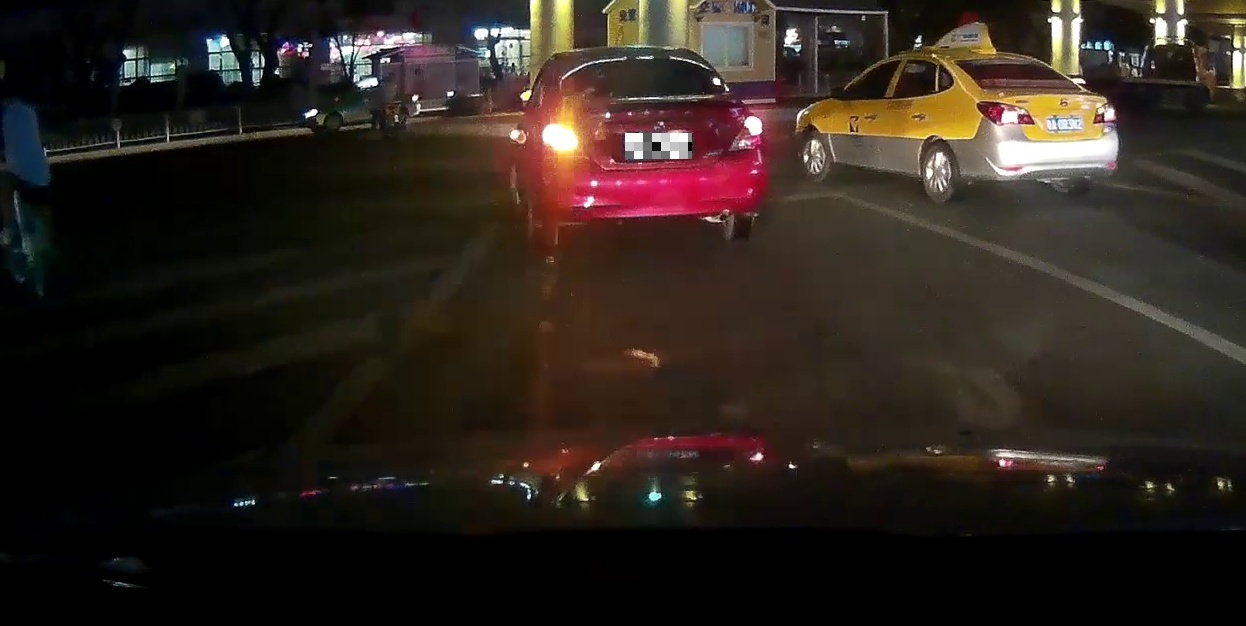L_light: (976, 101, 1035, 126), (541, 124, 579, 152)
R_light: (727, 116, 762, 152), (1092, 102, 1117, 125)
T_light: (631, 93, 664, 97), (1027, 84, 1050, 87)
night-left: (541, 46, 766, 254)
night-no: (954, 51, 1119, 204)
plate_1: (625, 133, 692, 159)
